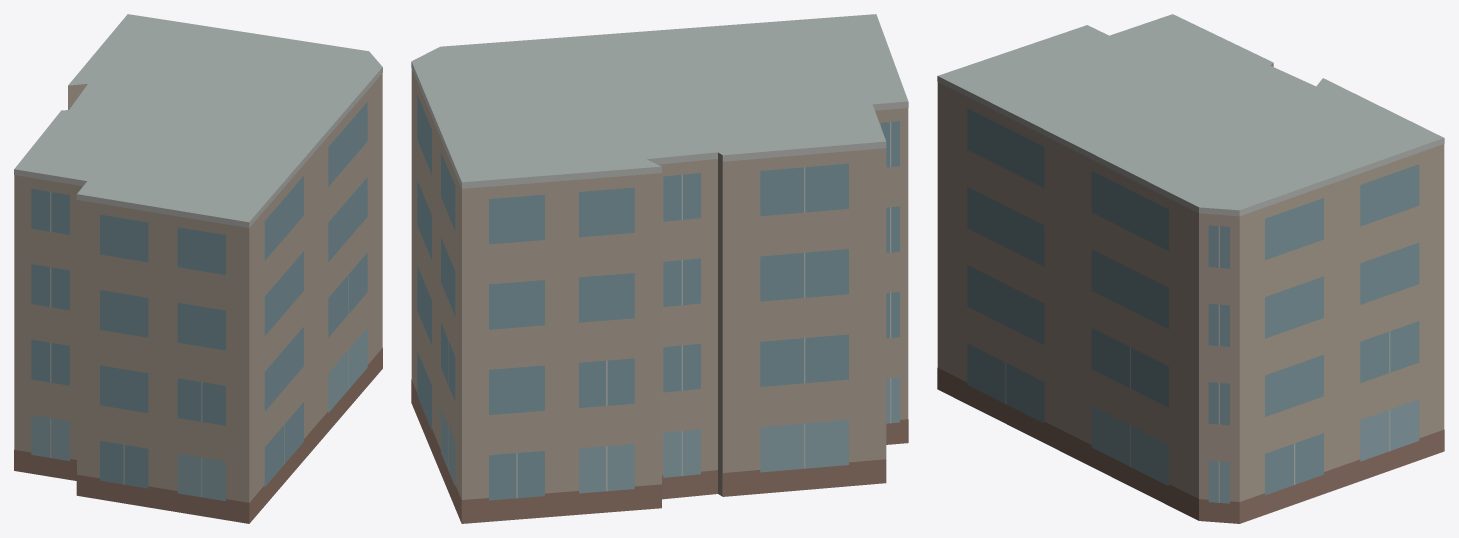
The model's file is survey-upis-32747209.glb.
The picture shows the model from 3 angles, left to right: view 1: azimuth 30°, elevation 25°; view 2: azimuth 150°, elevation 25°; view 3: azimuth 270°, elevation 25°; orthographic projection. The views are drawn at different scales.
Visible parts, largest first — view 1: survey-upis-32747209.tmp; view 2: survey-upis-32747209.tmp; view 3: survey-upis-32747209.tmp.
Part boxes in pixels (x1,y1,x2,y2): survey-upis-32747209.tmp: (14, 14, 382, 523); survey-upis-32747209.tmp: (411, 14, 908, 523); survey-upis-32747209.tmp: (937, 14, 1444, 523).
Bounding box in the file's own units: 17.2 × 12.8 × 18.76.
